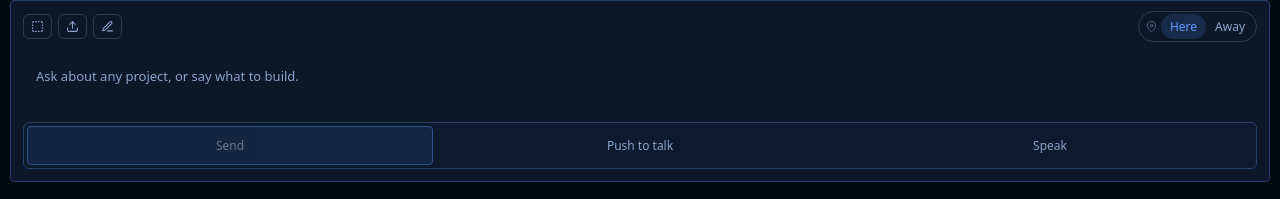
Scenario: ComposeBox — a completed mention is a PILL in the composer, not plain text › pills every address in the message, leaving the prose between them alone
Type "@Kraken Auth please sync with @Blueprint UI/UX before landing" into the text box named "Message".
click(640, 85); type("@Kraken Auth please sync with @Blueprint UI/UX before landing")  # box [23,56,1257,114]
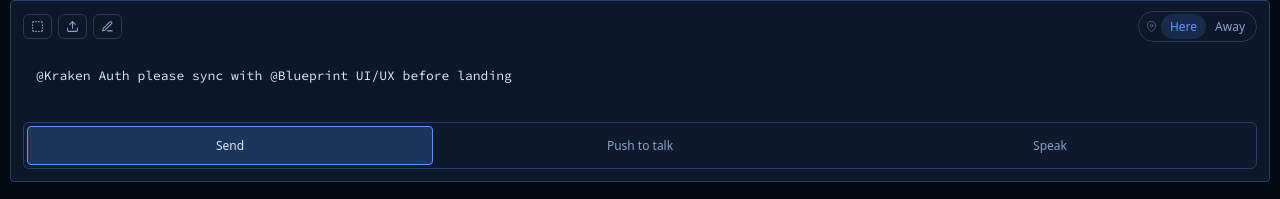
Expected: the element with test id "concierge-compose-mention-mirror" reads "@Kraken Auth please sync with @Blueprint UI/UX before landing", [36,67,512,84]
